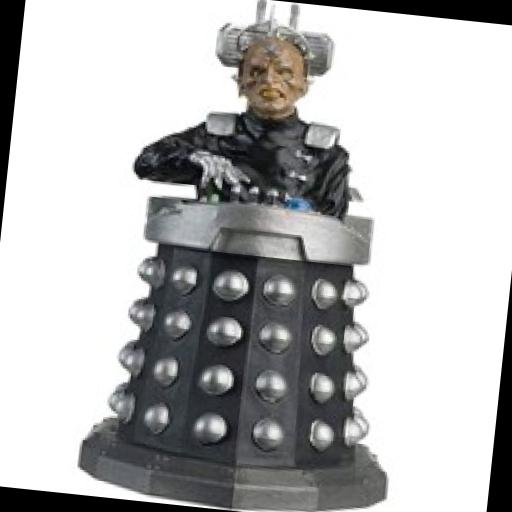dalek: (76, 173, 417, 512)
